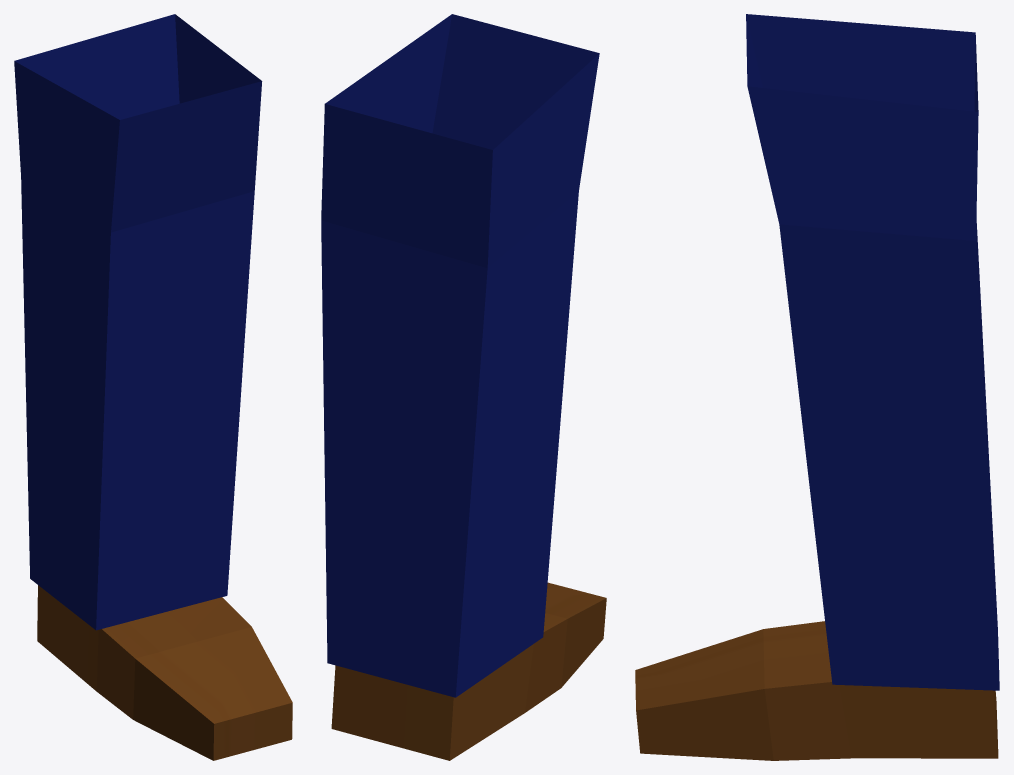
File: pie2.obj
The picture shows the model from 3 angles, left to right: view 1: azimuth 30°, elevation 25°; view 2: azimuth 150°, elevation 25°; view 3: azimuth 270°, elevation 25°; orthographic projection. The views are drawn at different scales.
Visible parts, largest first — view 1: Cube.002; view 2: Cube.002; view 3: Cube.002.
Part boxes in pixels (x1=…): Cube.002: x1=14, y1=14, x2=292, y2=760; Cube.002: x1=321, y1=14, x2=606, y2=760; Cube.002: x1=635, y1=14, x2=999, y2=760.
Bounding box in the file's own units: 0.2697 × 0.9572 × 0.4656.
2 materials, 2 textured.
